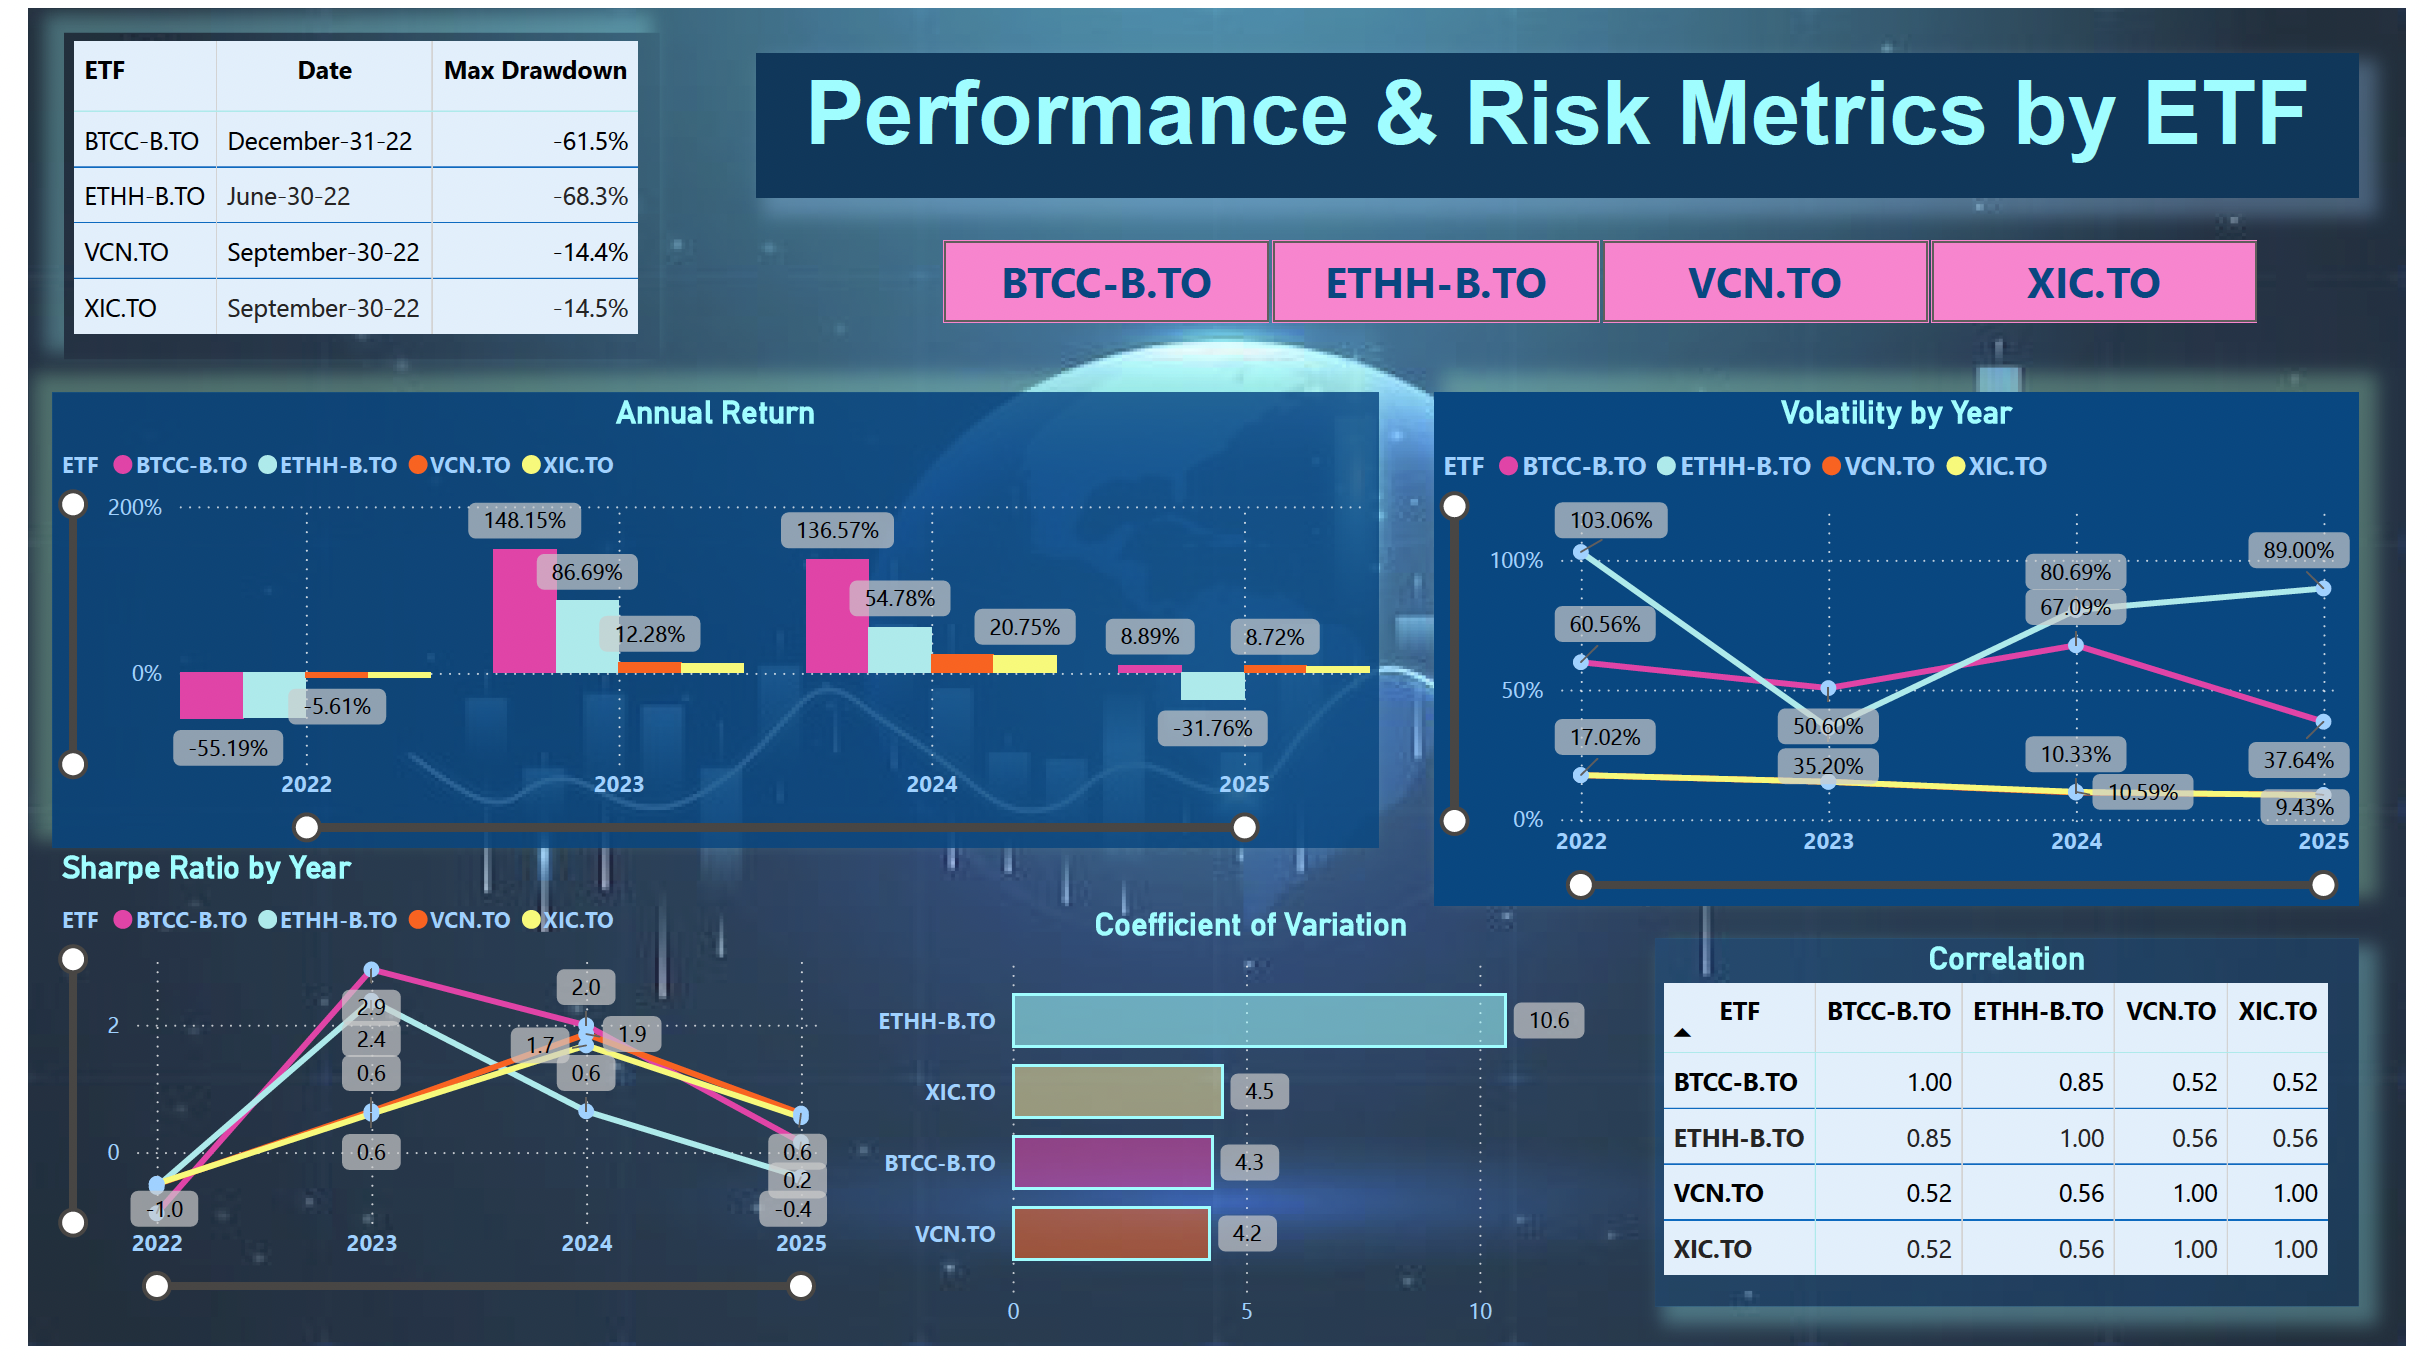

This screenshot's page, from the dashboard's own definition file:
{"tool":"powerbi","page":{"name":"Page 1","canvas":[1280,720],"ordinal":0},"visuals":[{"type":"lineChart","title":"Sharpe Ratio by Year","fields":{"Category":["KPIs por año.Year"],"Series":["KPIs por año.ETF"],"Y":["Sum(KPIs por año.Sharpe Ratio)"]},"box":[13.3,452.3,421.2,246.8],"z":0},{"type":"pivotTable","title":"Correlation","fields":{"Rows":["correlation.ETF"],"Columns":["correlation.ETF"],"Values":["Sum(correlation.BTCC-B.TO)","Sum(correlation.ETHH-B.TO)","Sum(correlation.VCN.TO)","Sum(correlation.XIC.TO)"]},"box":[876.5,501.1,378.4,198.1],"z":1000},{"type":"slicer","fields":{"Values":["KPIs por año.ETF"]},"box":[467.1,118.2,756.8,57.6],"z":2000},{"type":"clusteredBarChart","title":"Coefficient of Variation","fields":{"Y":["Sum(coefficient of Variation.CV)"],"Category":["coefficient of Variation.ETF"]},"box":[442,483,415,237],"z":3000},{"type":"lineChart","title":"Volatility by Year ","fields":{"Category":["KPIs por año.Year"],"Series":["KPIs por año.ETF"],"Y":["Sum(KPIs por año.Volatility)"]},"box":[756.8,206.9,498.1,276.4],"z":4000},{"type":"clusteredColumnChart","title":"Annual Return","fields":{"Category":["KPIs por año.Year"],"Series":["KPIs por año.ETF"],"Y":["Sum(KPIs por año.Annual Return)"]},"box":[13.3,206.9,713.9,245.4],"z":5000},{"type":"tableEx","fields":{"Values":["KPIs por mes.ETF","Calculations.FechaMaxDrawdownPorETF","Calculations.MaxDrawdownPorETF"]},"box":[19.2,13.3,320.7,175.9],"z":6000},{"type":"textbox","box":[391.7,23.6,863.2,78.3],"z":7000}]}

Visuals, with their boxes in screenshot pixels (x1, y1, x2, y2), scaled from the page's 1280x720 canvas onto the 2428x1362 screenshot:
"Sharpe Ratio by Year" lineChart: Rect(25, 856, 824, 1322)
"Correlation" pivotTable: Rect(1663, 948, 2380, 1323)
slicer - KPIs por año.ETF: Rect(886, 224, 2322, 333)
"Coefficient of Variation" clusteredBarChart: Rect(838, 914, 1626, 1361)
"Volatility by Year " lineChart: Rect(1436, 391, 2380, 914)
"Annual Return" clusteredColumnChart: Rect(25, 391, 1379, 856)
tableEx - KPIs por mes.ETF x Calculations.FechaMaxDrawdownPorETF: Rect(36, 25, 645, 358)
textbox: Rect(743, 45, 2380, 193)
